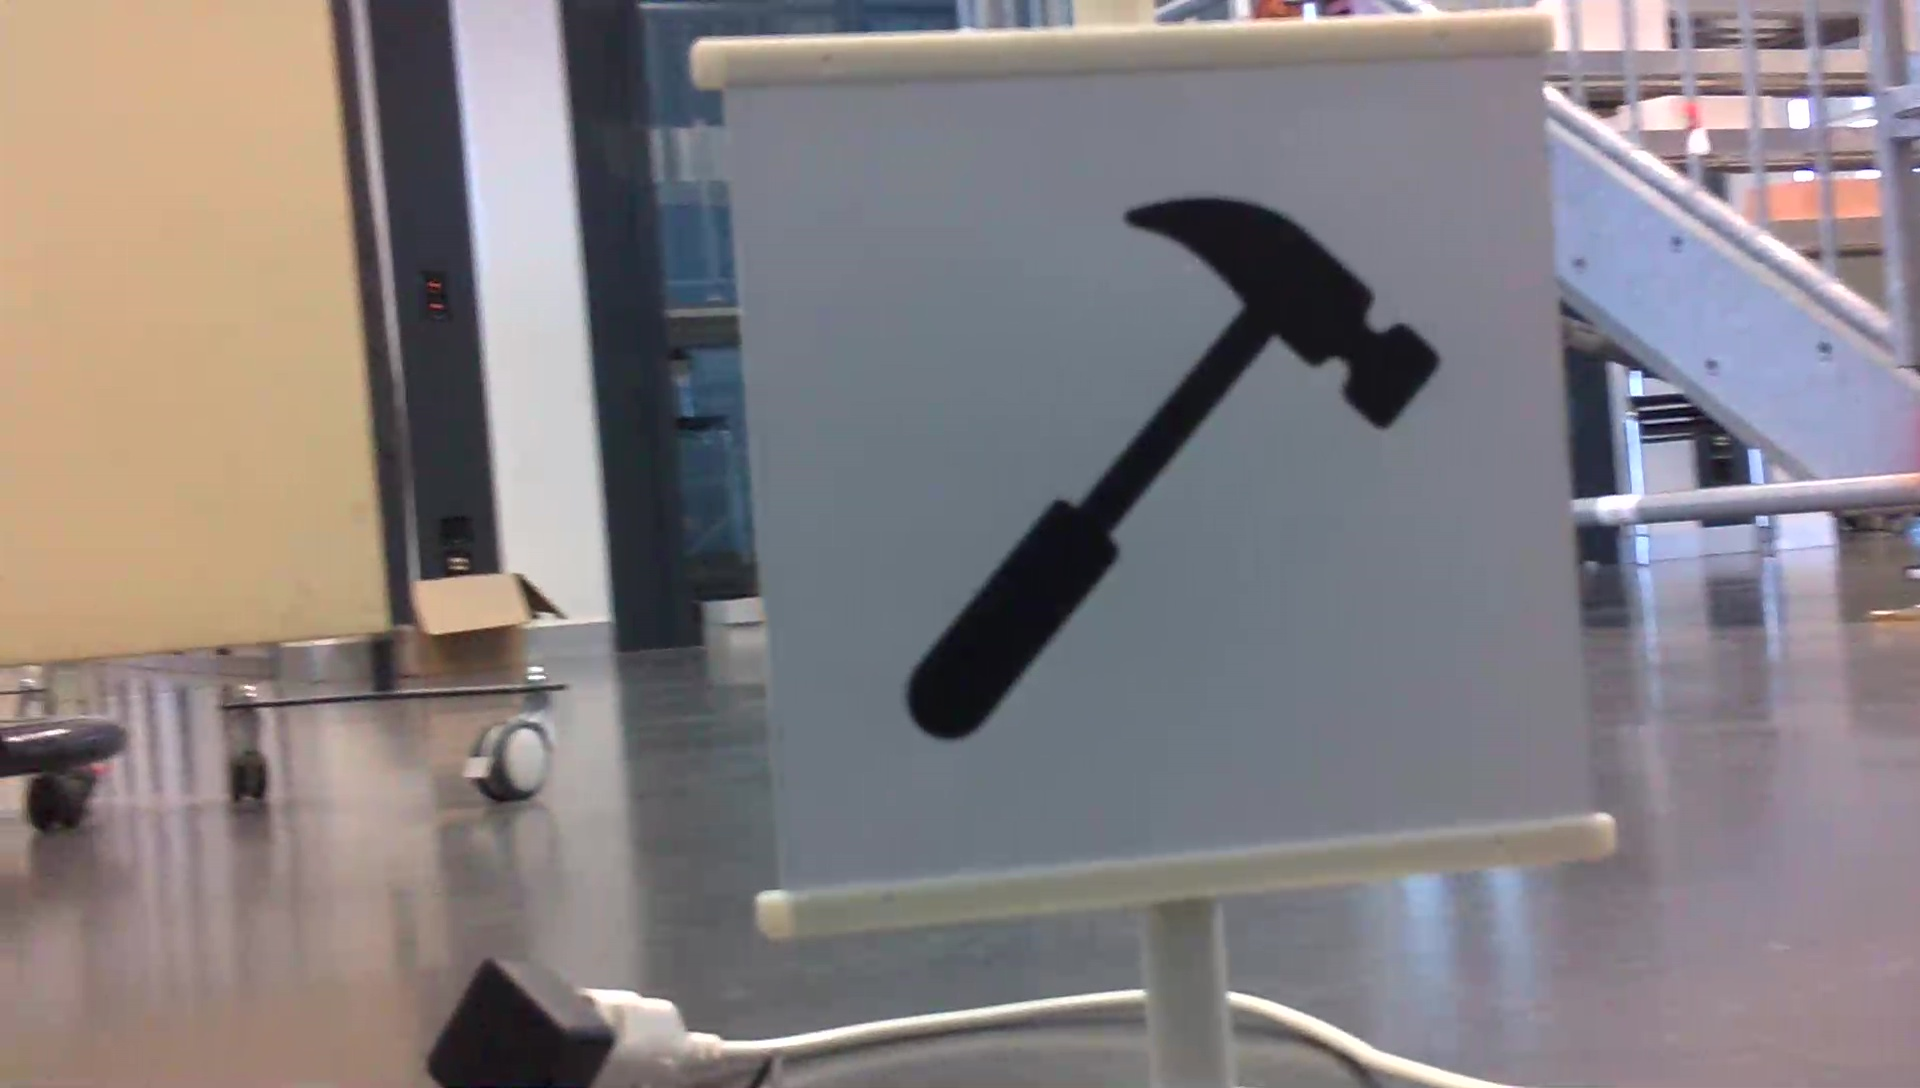hammer: (893, 189, 1451, 750)
